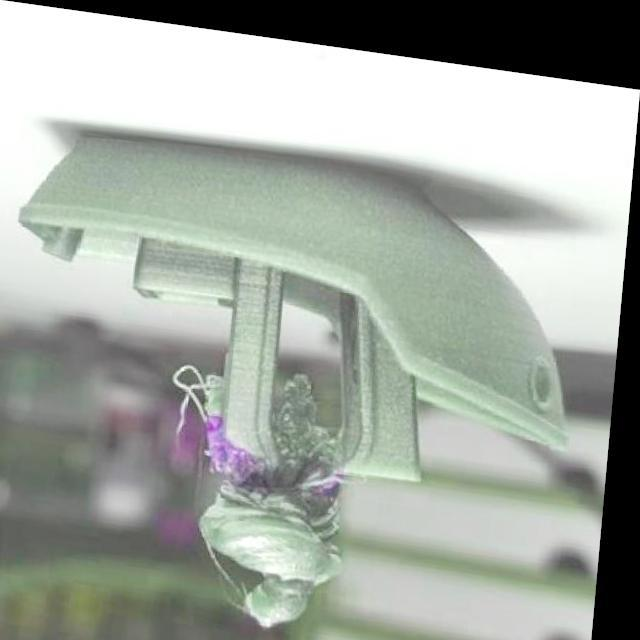spaghetti: (175, 358, 276, 476), (277, 362, 358, 470)
